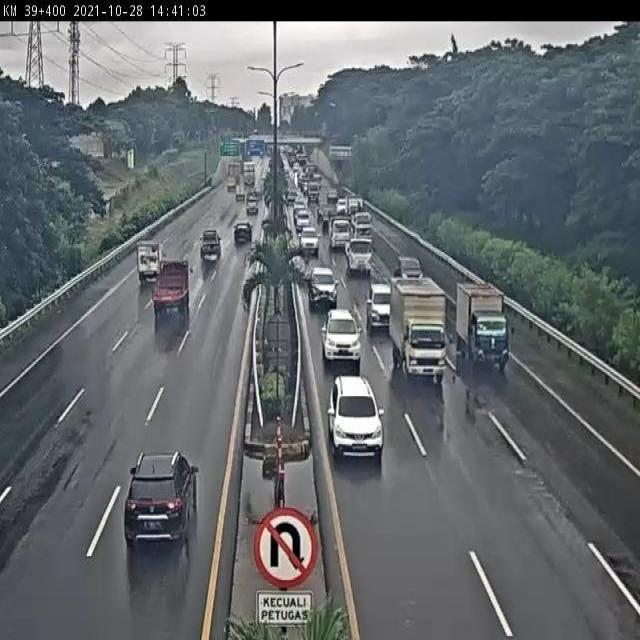Car: (123, 453, 199, 544), (328, 376, 384, 459), (322, 310, 362, 368), (307, 266, 339, 309), (367, 283, 392, 332), (298, 226, 321, 257), (200, 228, 222, 260), (396, 256, 424, 277), (234, 221, 252, 244), (295, 211, 310, 230), (245, 196, 260, 214)
Truck: (389, 276, 454, 383), (455, 281, 516, 372), (152, 259, 194, 317), (136, 240, 165, 286), (344, 237, 376, 274), (327, 217, 352, 248), (242, 162, 256, 186), (228, 162, 242, 183), (235, 184, 246, 202), (226, 176, 236, 192)
